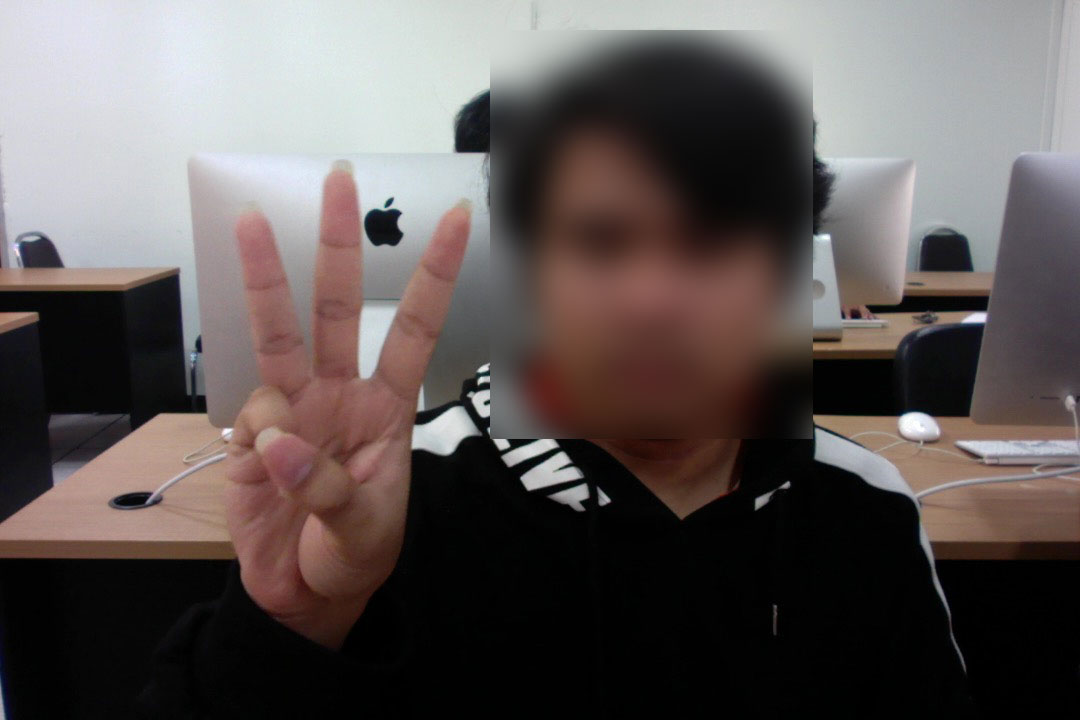wor: (178, 171, 491, 631)
